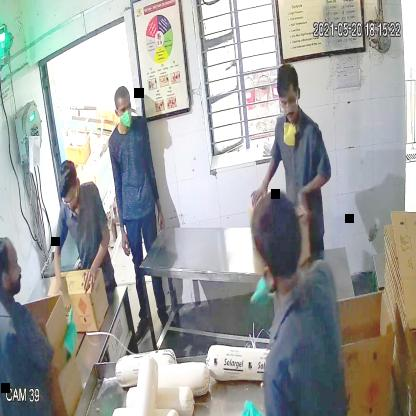goggles: (277, 90, 300, 113), (58, 188, 81, 209)
